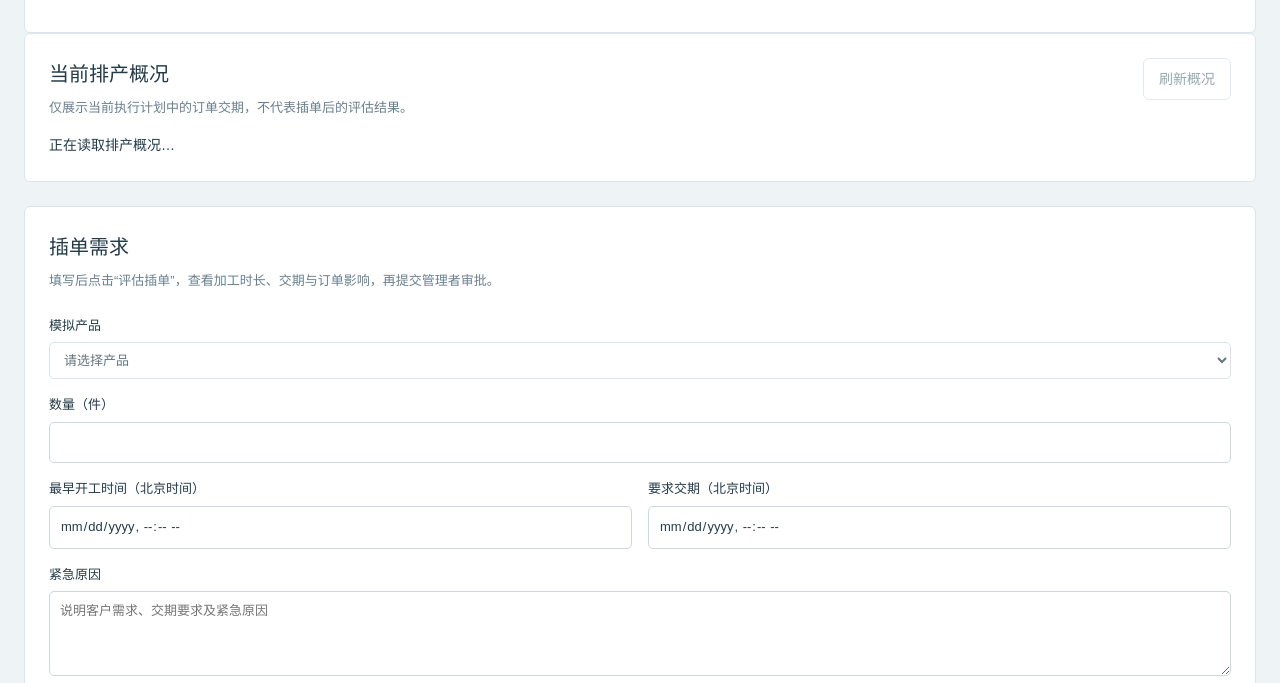
Test case: sales page framework (URG-02 / DISC-02) › rejects fractional quantities and a deadline before the start
(page scrolled)
Select "P-DEMO-001" in the dropdown labelled "模拟产品" at [640, 361], box top-left (49, 342), bottom-right (1231, 379)
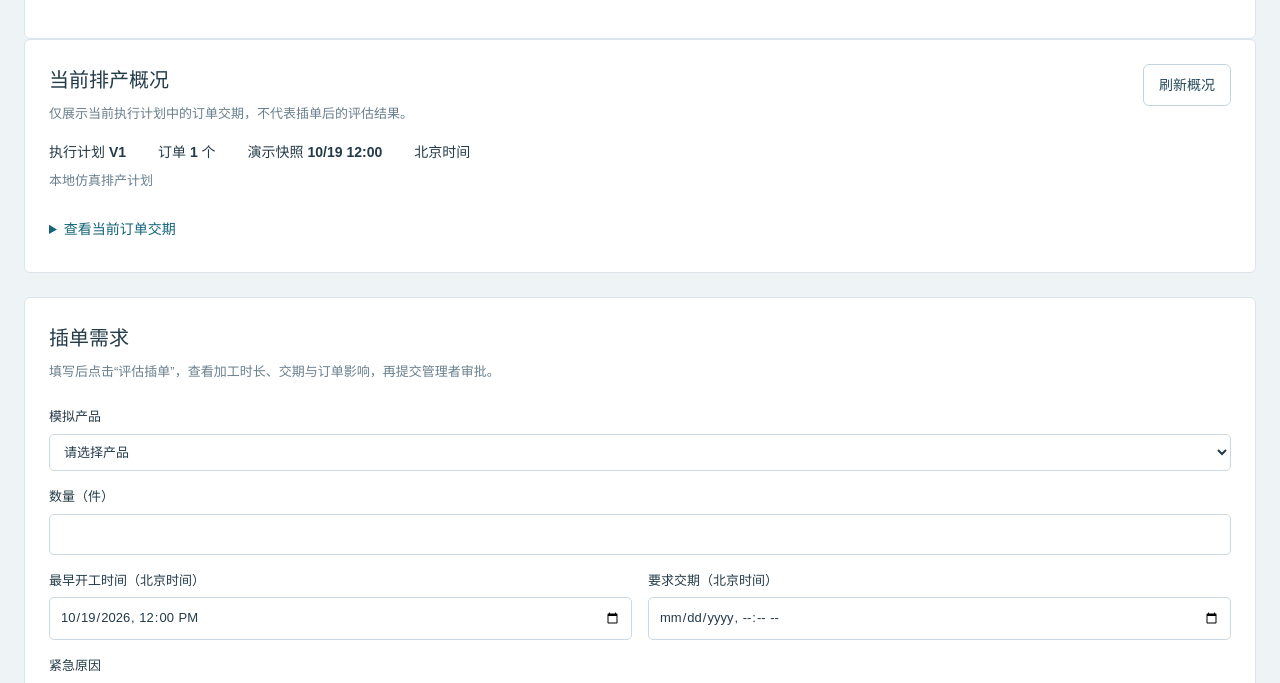
Type "1001" into the number field labelled "数量（件）" at [640, 534], box top-left (49, 514), bottom-right (1231, 554)
Type "2026-10-20T16:00" into the field labelled "要求交期（北京时间）" at [940, 619], box top-left (648, 597), bottom-right (1231, 640)
(page scrolled)
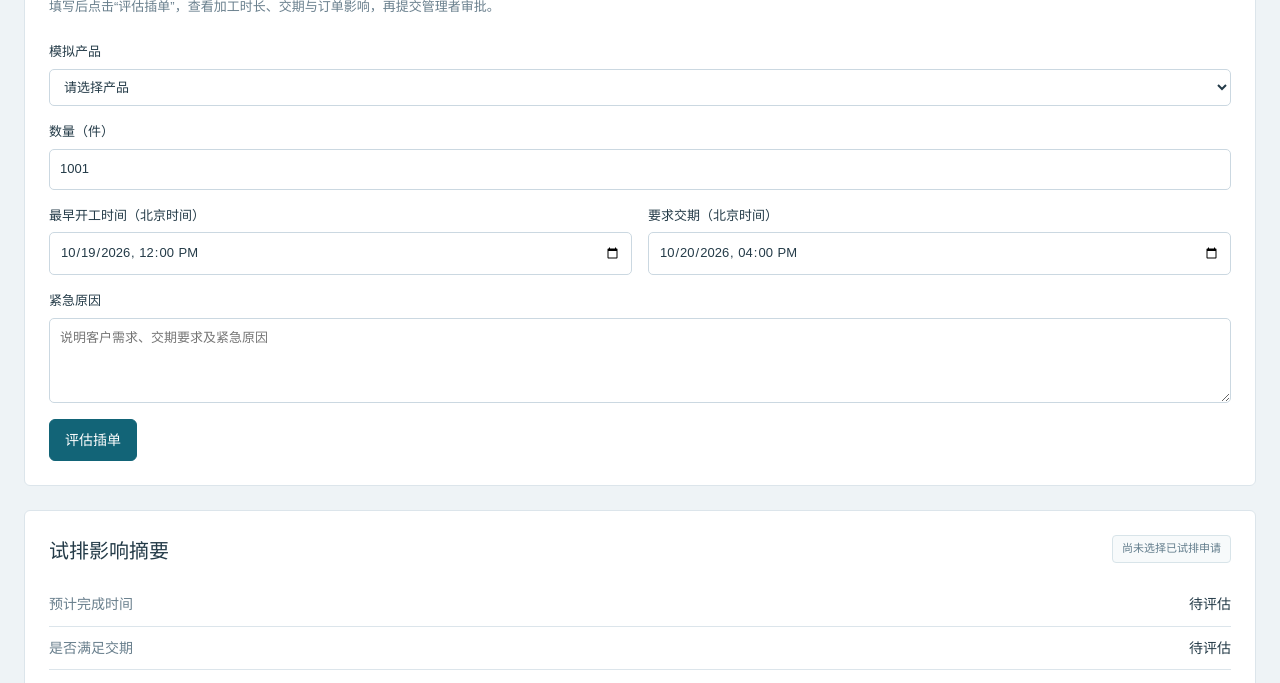
Type "客户紧急补货" into the text box labelled "紧急原因" at [640, 360], box top-left (49, 318), bottom-right (1231, 403)
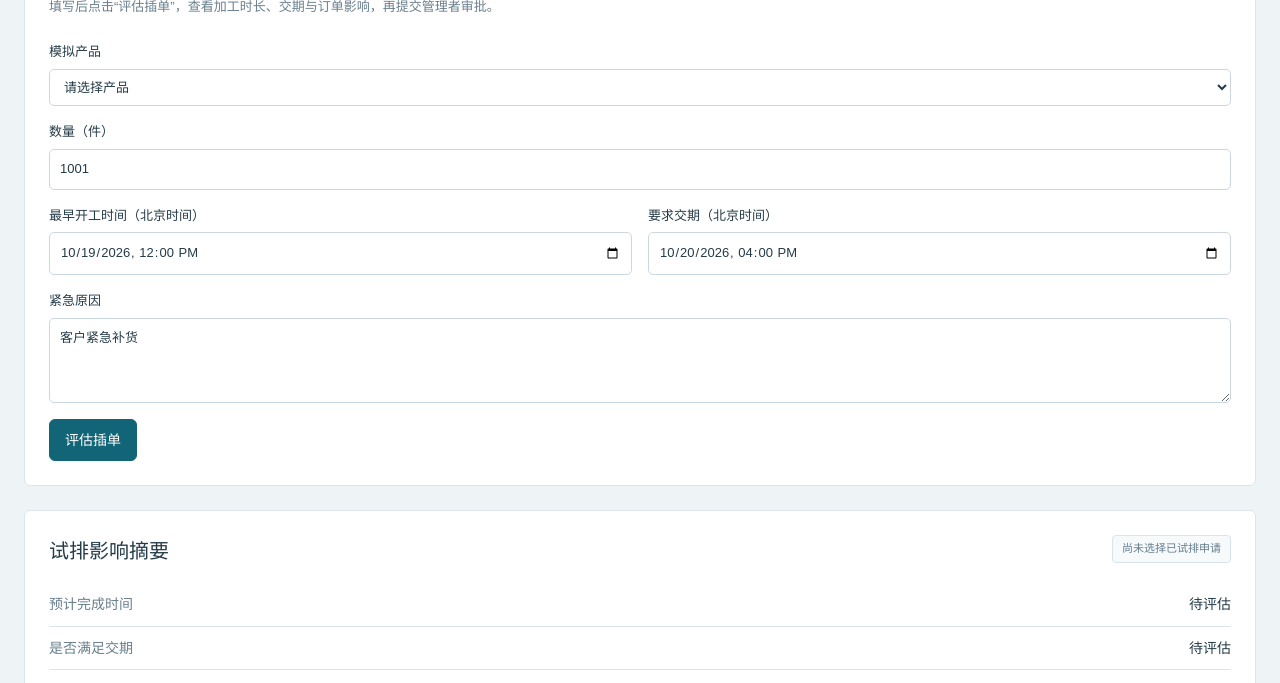
Replace the text in the number field labelled "数量（件）" with "1.5" at [640, 169], box top-left (49, 149), bottom-right (1231, 190)
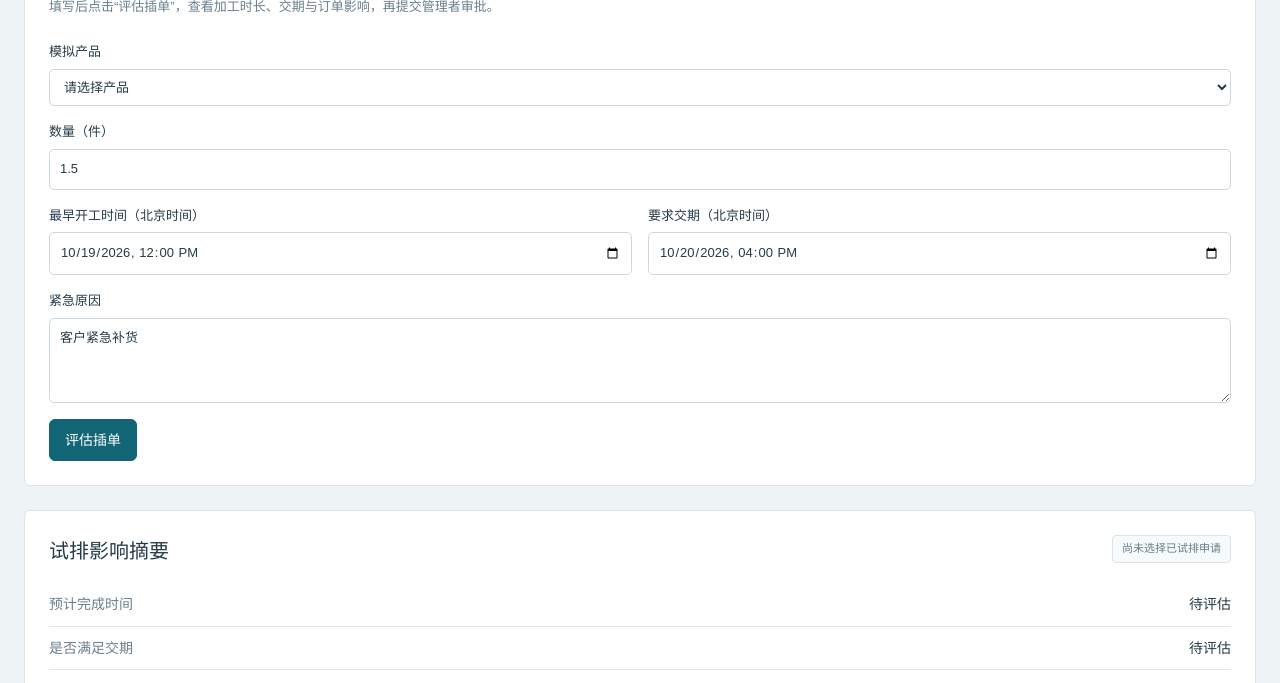
Replace the text in the field labelled "要求交期（北京时间）" with "2026-10-19T11:00" at [940, 254], box top-left (648, 232), bottom-right (1231, 275)
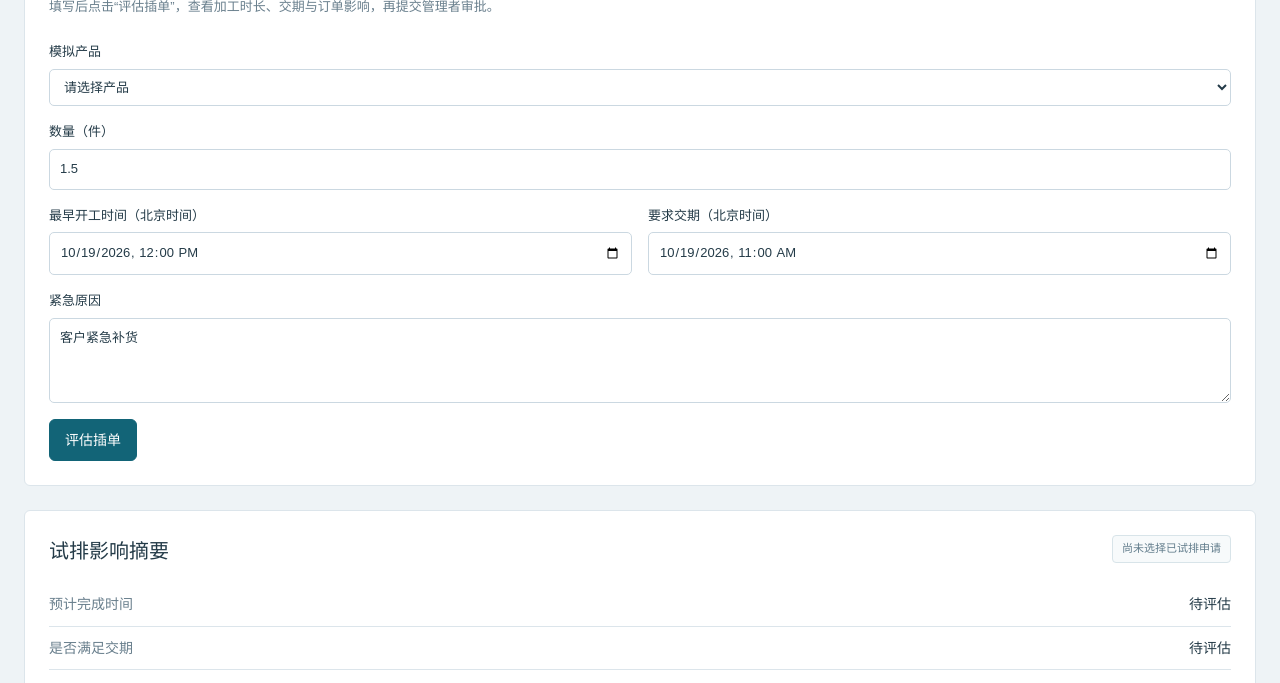
Click the button "评估插单" at [93, 440], box top-left (49, 419), bottom-right (137, 461)
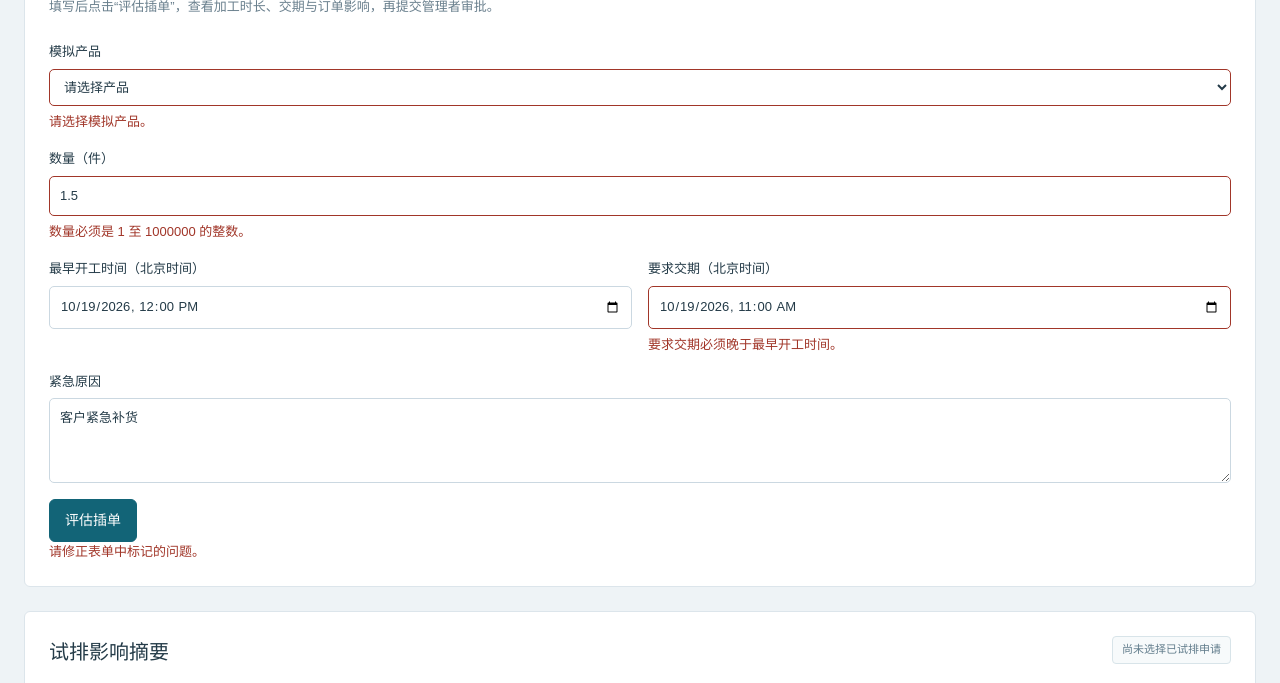
Check: the text "数量必须是 1 至 1000000 的整数。" is shown, box top-left (49, 224), bottom-right (251, 239)
Check: the text "要求交期必须晚于最早开工时间。" is shown, box top-left (648, 337), bottom-right (843, 352)
